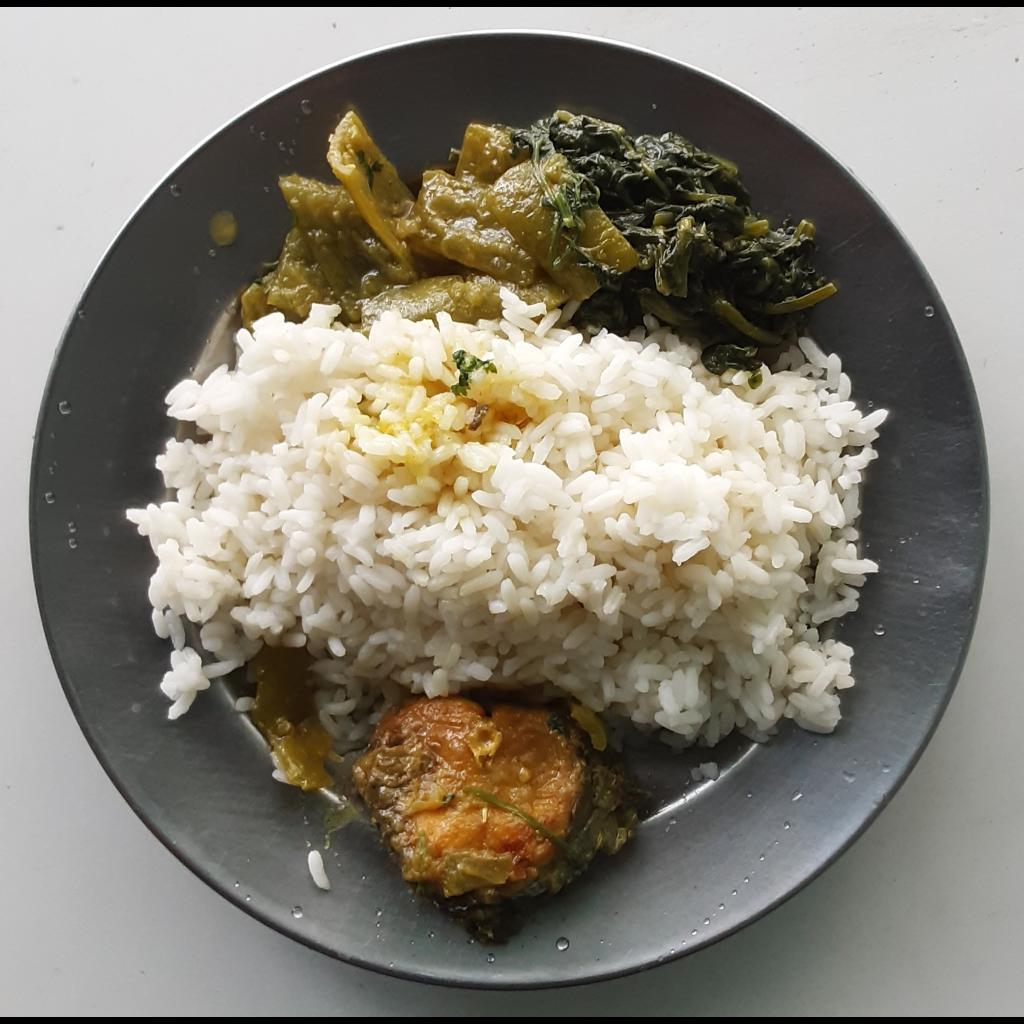fish: (358, 688, 644, 928)
rice: (126, 287, 890, 752)
shak: (234, 105, 844, 363)
